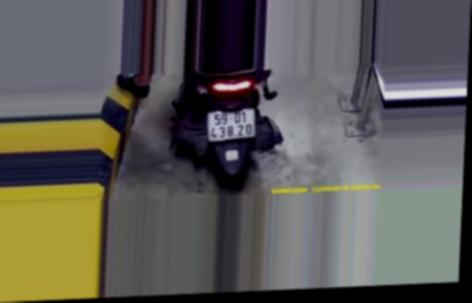License_Plate: (203, 104, 260, 144)
